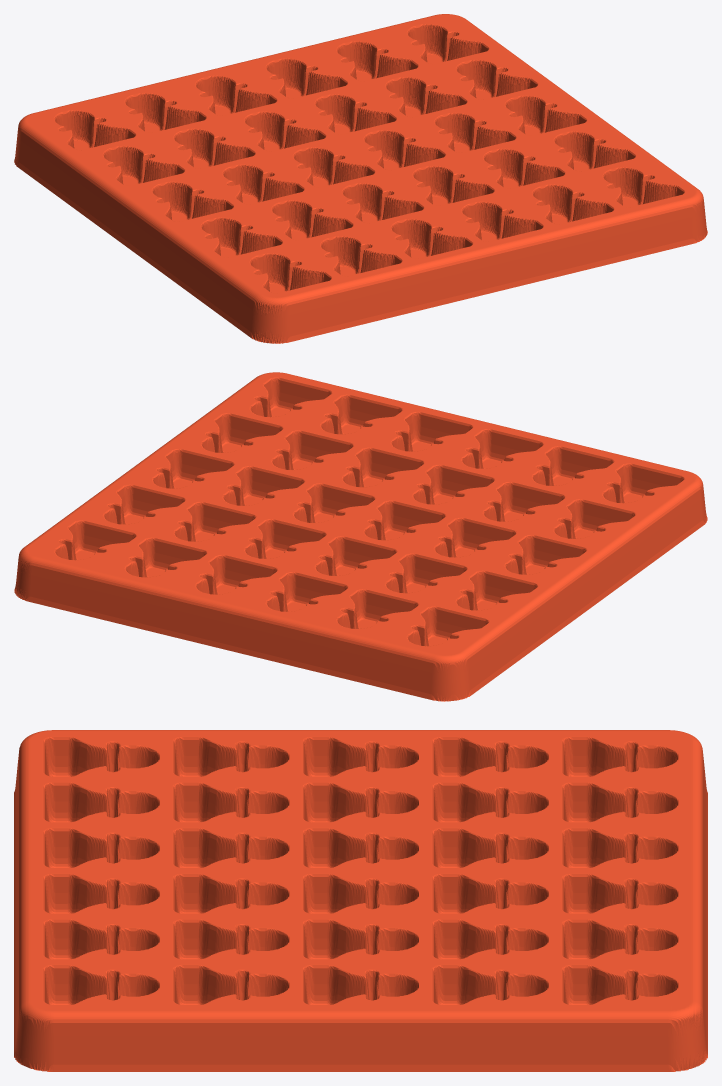
The model's file is mold.glb.
3 views of the same model, one above another, from view 1: azimuth 30°, elevation 25°; view 2: azimuth 150°, elevation 25°; view 3: azimuth 270°, elevation 25° (orthographic). The views are drawn at different scales.
Visible parts, largest first — view 1: geometry_0; view 2: geometry_0; view 3: geometry_0.
Boxes of the visible parts, bbox=[...] form: geometry_0: bbox=[14, 14, 707, 343]; geometry_0: bbox=[14, 372, 707, 701]; geometry_0: bbox=[14, 730, 707, 1071].
Bounding box in the file's own units: 0.1581 × 0.0136 × 0.1581.
